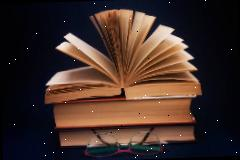paper: (53, 96, 196, 128), (58, 124, 196, 148)
